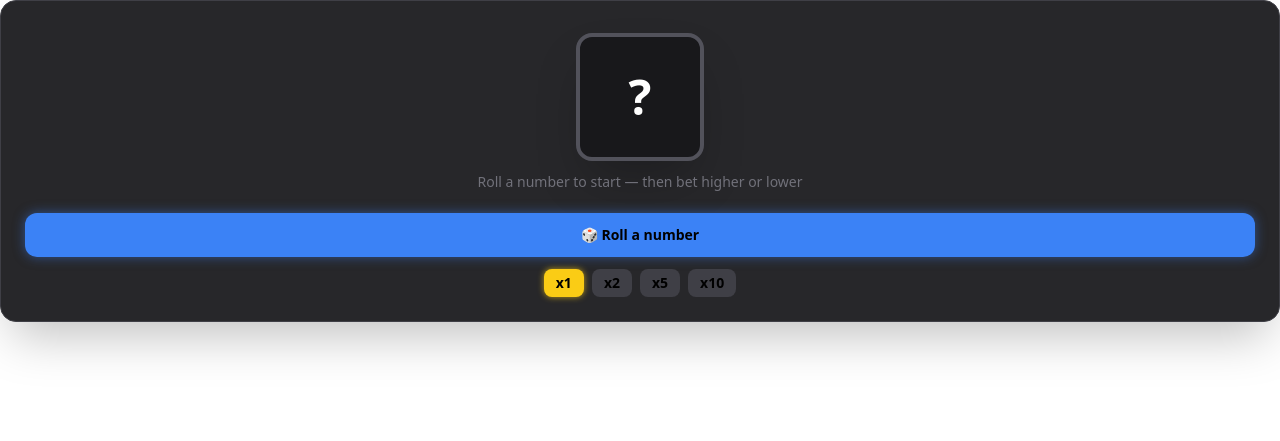
Test: HiLo guessing › disables impossible sides: higher than 100 has no winning rolls
What coordinates should you click on to do the following:
click the button "🎲 Roll a number"
I would click on:
 (640, 235)
Its box is x1=25 y1=213 x2=1255 y2=257.
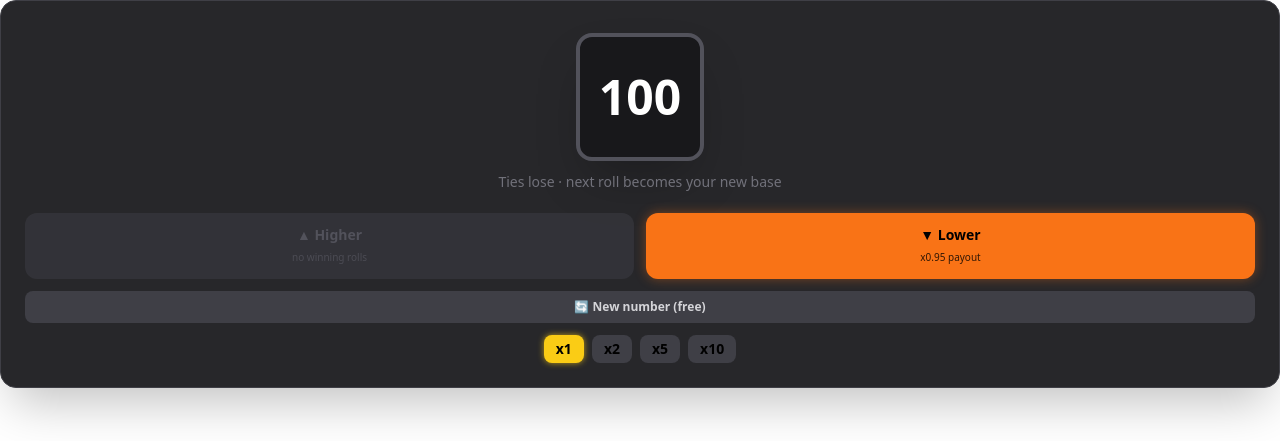
Expected: the button "▲ Higher no winning rolls" is disabled, x1=25 y1=213 x2=634 y2=279
Expected: the button "▲ Higher no winning rolls" is shown, x1=25 y1=213 x2=634 y2=279
Expected: the text "x0.95 payout" is shown, x1=920 y1=250 x2=981 y2=264
